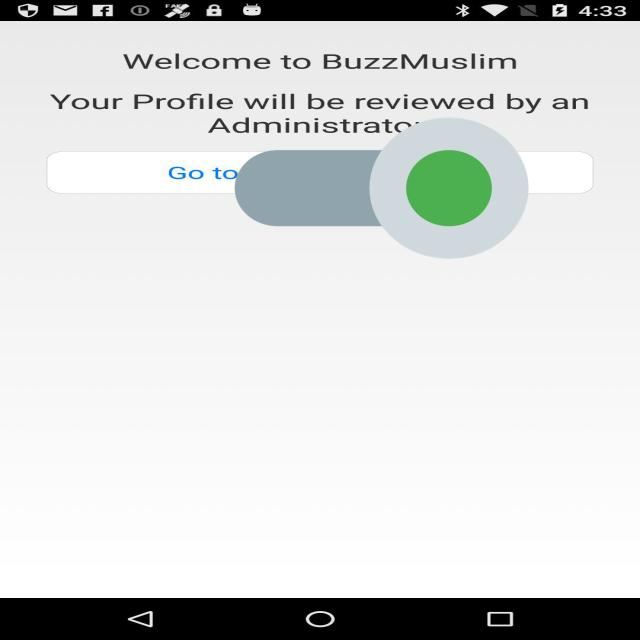social proof: (234, 58, 528, 318)
